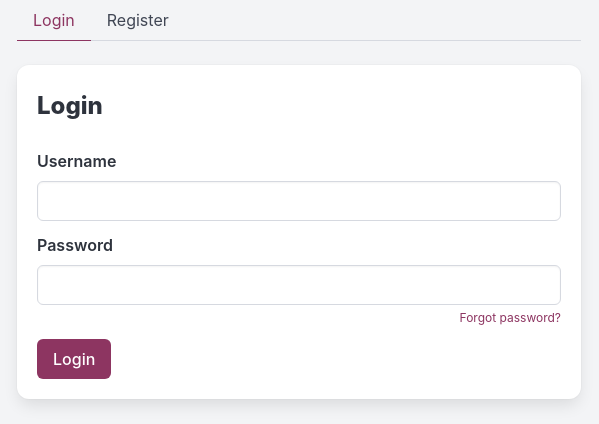
Scenario: AuthPage › opens the forgot password form from the login form, under the Login tab, and goes back on Cancel
// WHEN the visitor follows the forgot password link
Click the link "Forgot password?". click: (510, 318)
box: [460,310,561,325]
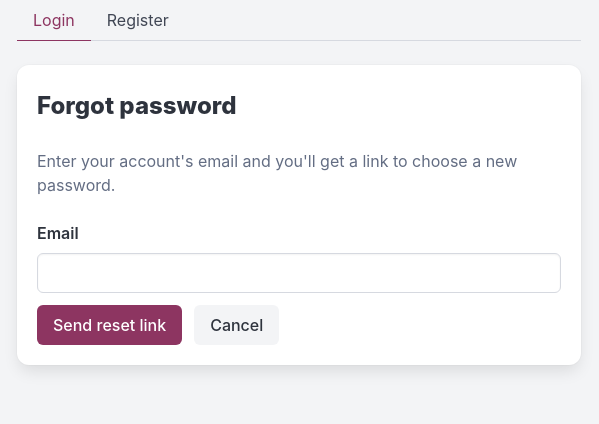
Expected: the heading "Forgot password" is shown, [37,90,236,120]
// WHEN they cancel
Click the button "Cancel". click: (237, 325)
box: [194,305,279,345]
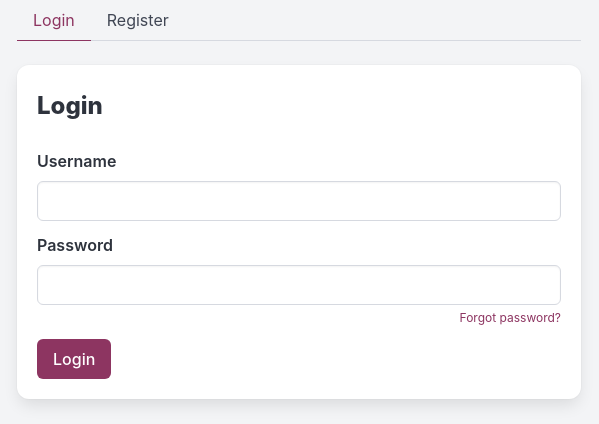
Expected: the heading "Login" is shown, [37,90,103,120]
